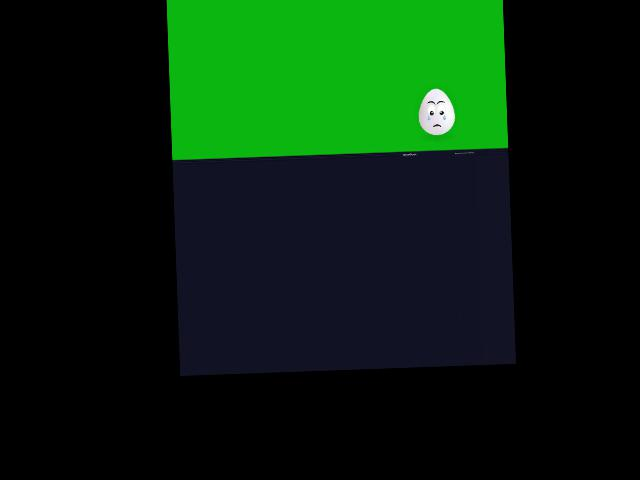egg: (417, 88, 455, 135)
